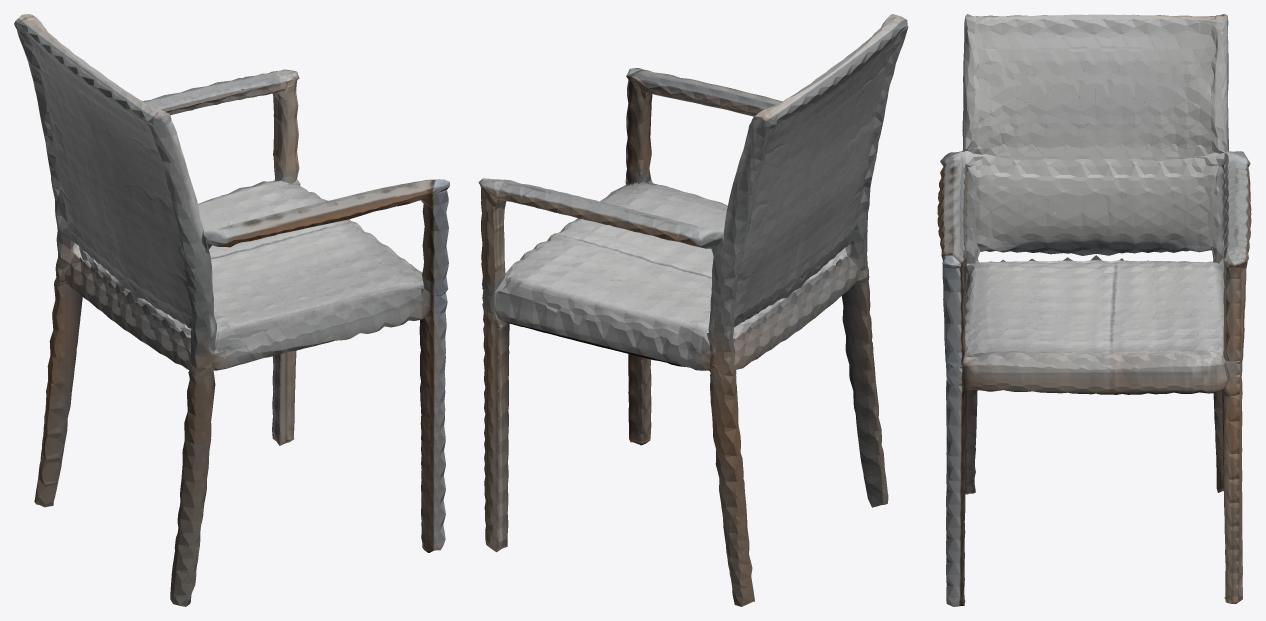
The model's file is elem_94_131_206_213_2_6.obj.
3 views of the same model, side by side, from view 1: azimuth 30°, elevation 25°; view 2: azimuth 150°, elevation 25°; view 3: azimuth 270°, elevation 25° (orthographic). The views are drawn at different scales.
Bounding box in the file's own units: 0.44 × 0.7086 × 0.4321.
Materials: 1 (1 with a texture image).
